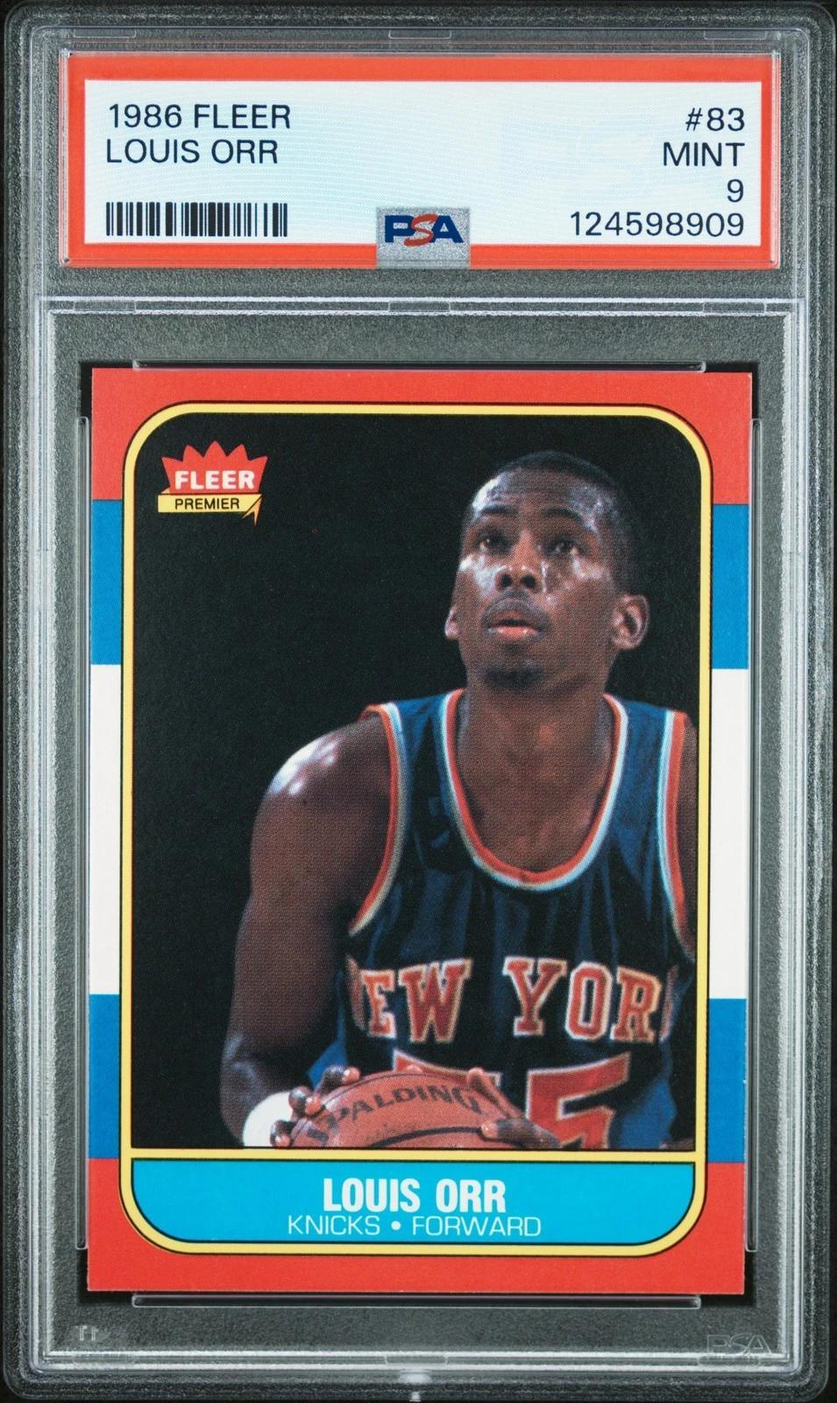card-2UtV: (87, 366, 753, 1295)
